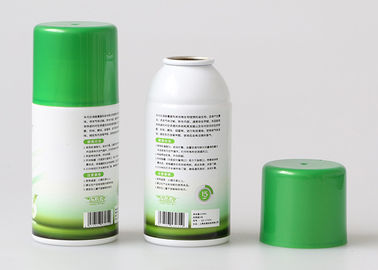Aerosol_cans: (30, 18, 120, 249), (141, 51, 233, 248)
